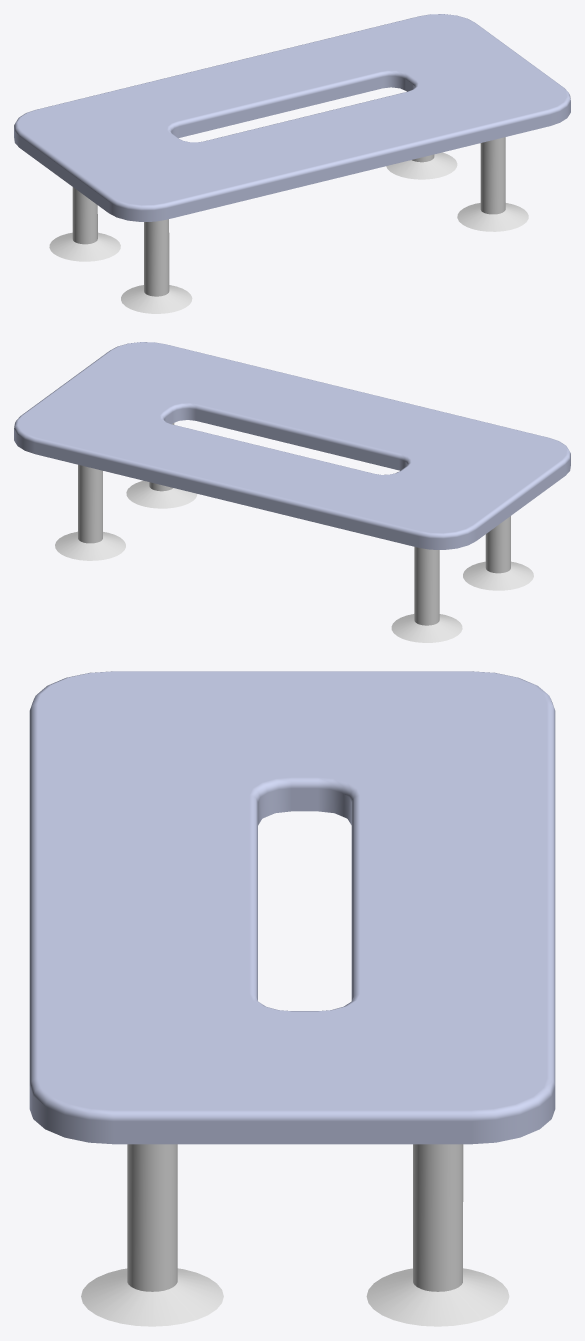
File: table.dae
The picture shows the model from 3 angles, top to bottom: view 1: azimuth 30°, elevation 25°; view 2: azimuth 150°, elevation 25°; view 3: azimuth 270°, elevation 25°; orthographic projection. The views are drawn at different scales.
Parts seen in each view (by area): view 1: table__Default_; view 2: table__Default_; view 3: table__Default_.
Part boxes in pixels (x1,y1,x2,y2): table__Default_: (14, 14, 570, 313); table__Default_: (14, 342, 570, 642); table__Default_: (29, 671, 555, 1326).
Bounding box in the file's own units: 125 × 62.52 × 32.
